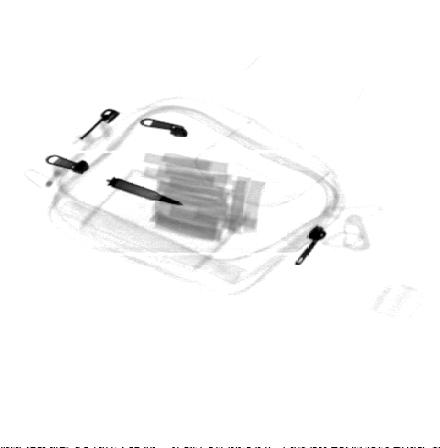Bullet: (105, 175, 188, 206)
